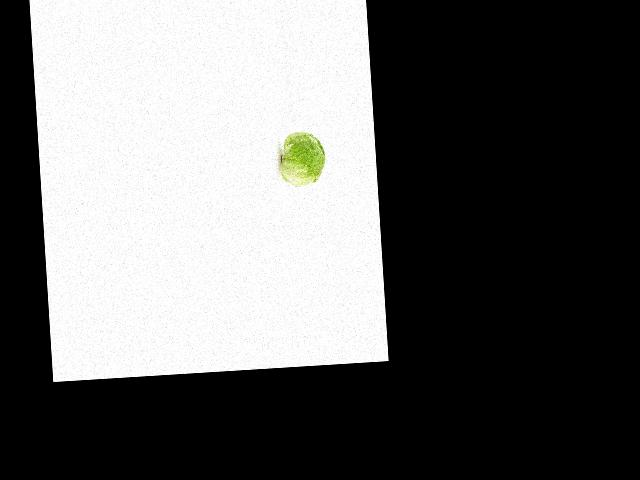lettuce: (280, 123, 328, 188)
